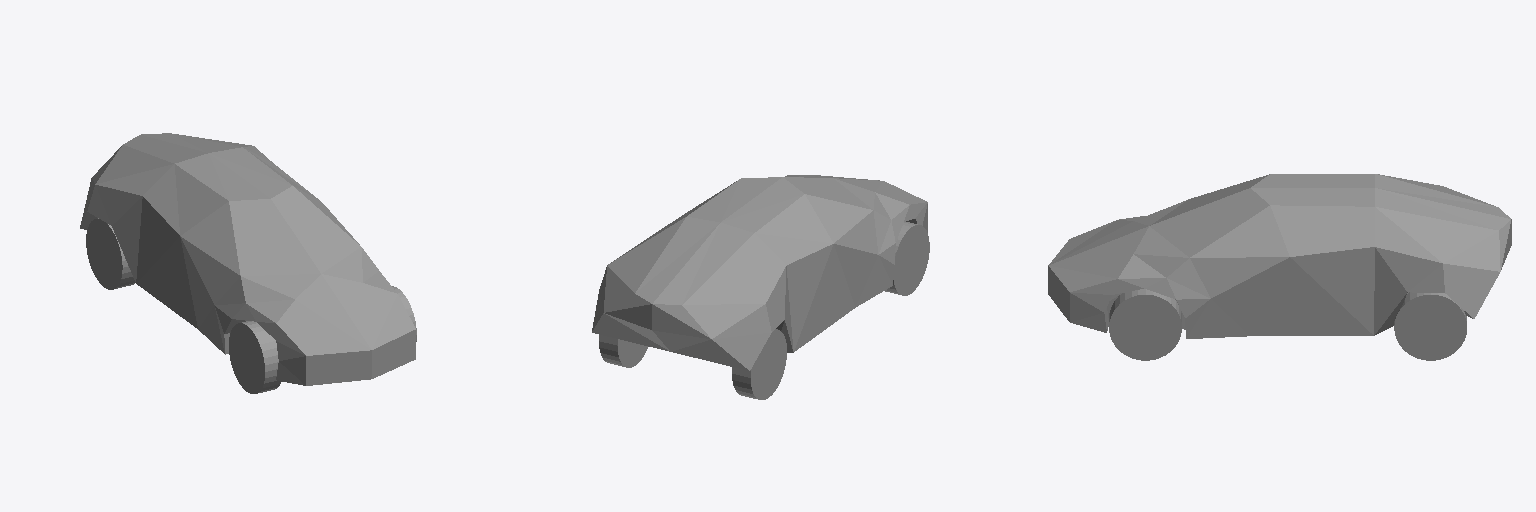
Rendered from rally_car.obj.
3 views of the same model, side by side, from view 1: azimuth 30°, elevation 25°; view 2: azimuth 150°, elevation 25°; view 3: azimuth 270°, elevation 25° (orthographic).
Parts seen in each view (by area): view 1: rally_car_Cube.001, wheel_Cylinder, wheel.001_Cylinder.001; view 2: rally_car_Cube.001, wheel.001_Cylinder.001, wheel_Cylinder, wheel.003_Cylinder.003; view 3: rally_car_Cube.001, wheel.002_Cylinder.002, wheel.003_Cylinder.003.
Part boxes in pixels (left/top/right/bottom): rally_car_Cube.001: left=80, top=133, right=415, bottom=385; wheel_Cylinder: left=229, top=321, right=281, bottom=393; wheel.001_Cylinder.001: left=86, top=218, right=135, bottom=289; rally_car_Cube.001: left=592, top=175, right=927, bottom=370; wheel.001_Cylinder.001: left=732, top=329, right=786, bottom=399; wheel_Cylinder: left=885, top=222, right=929, bottom=295; wheel.003_Cylinder.003: left=599, top=335, right=647, bottom=367; rally_car_Cube.001: left=1048, top=174, right=1511, bottom=338; wheel.002_Cylinder.002: left=1109, top=289, right=1181, bottom=360; wheel.003_Cylinder.003: left=1394, top=292, right=1466, bottom=360.
Size of the model in its own units: 1.85 by 1.4 by 4.3.